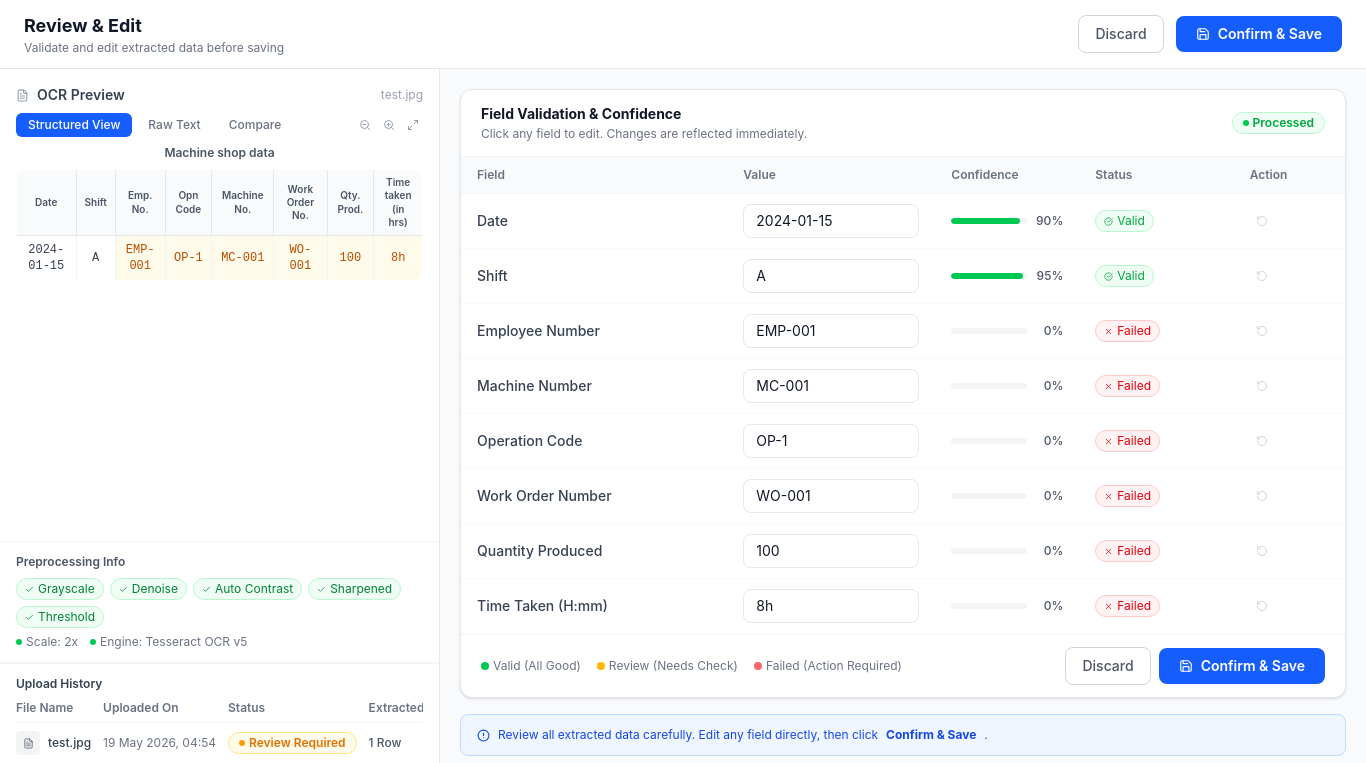
it: Review page › shows error banner when confirmRecord fails
The width and height of the screenshot is (1366, 763).
Step 1. Click the button "Confirm & Save" in the row of "Review & Edit" → (1259, 34), box [1176,16,1342,52]
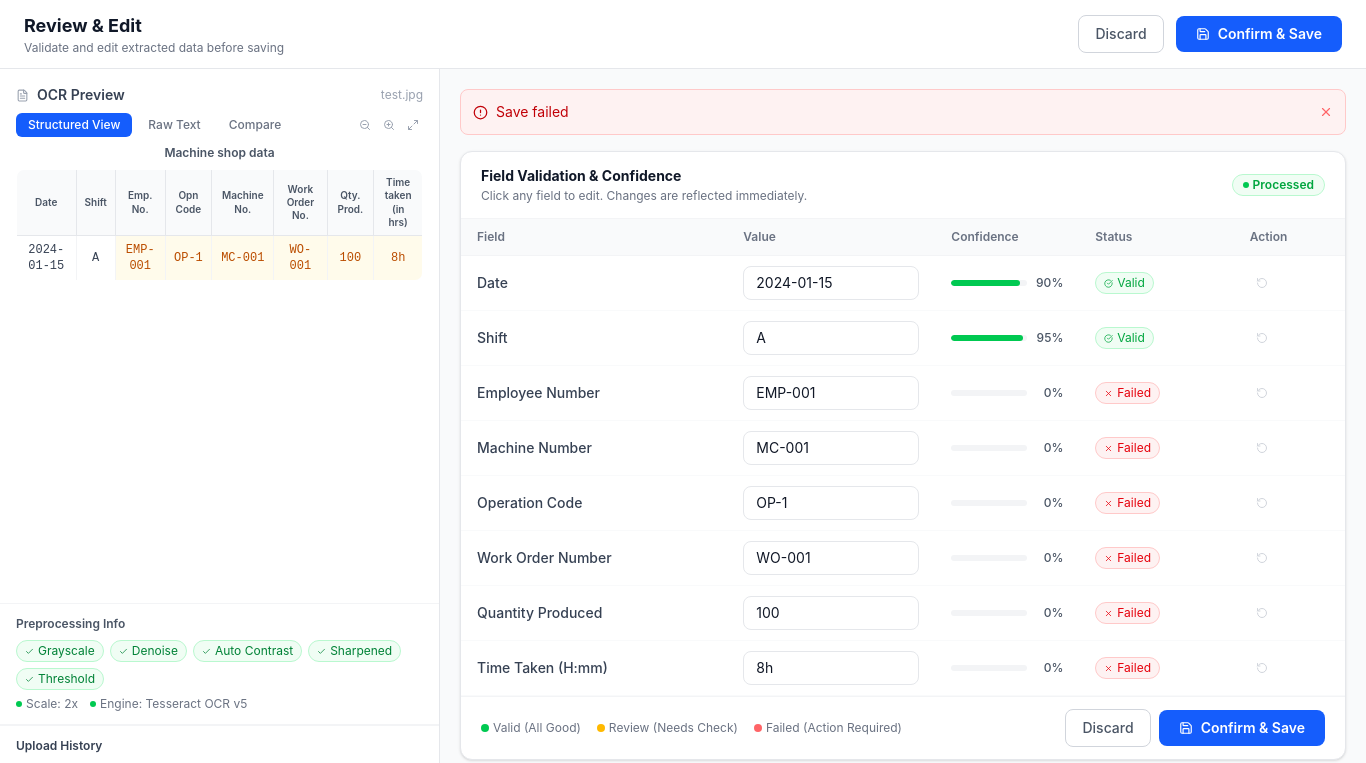
Expected: the text "Save failed" is shown, [460,89,1346,135]
